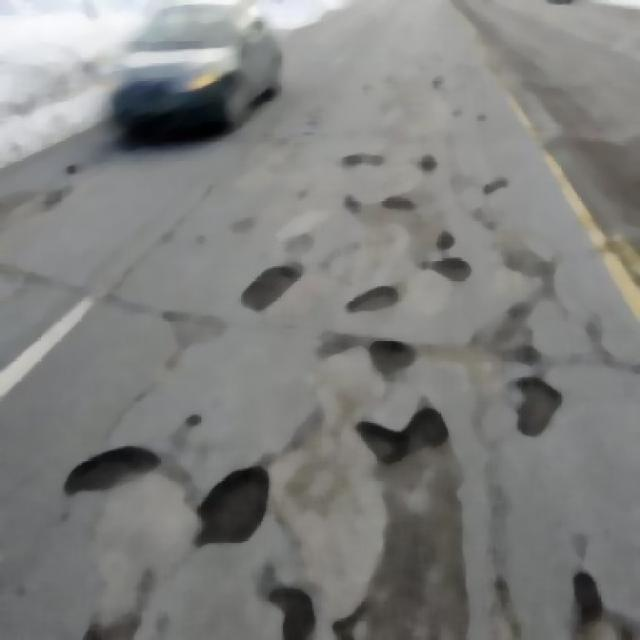Pothole: (357, 405, 475, 638), (68, 432, 185, 510), (566, 547, 639, 638), (196, 473, 282, 550), (497, 352, 565, 428), (240, 254, 308, 324), (334, 259, 408, 316), (418, 248, 480, 309), (270, 588, 324, 638), (77, 602, 137, 638)
